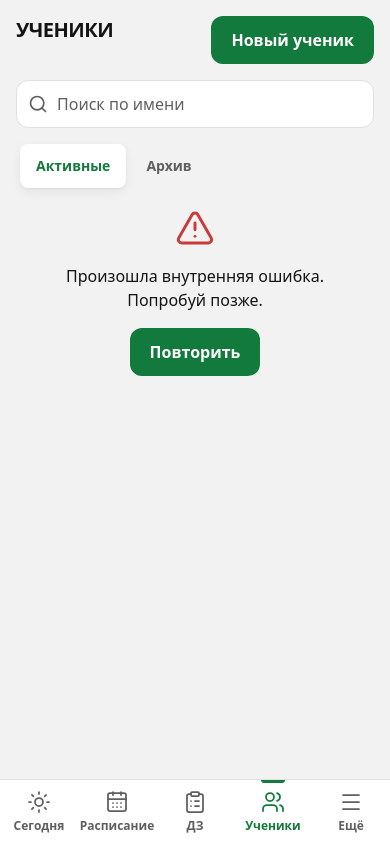
Test: Ученики: список › ошибка: «Повторить» перезапрашивает список
Check: the message shows "Произошла внутренняя ошибка. Попробуй позже.", box [66,265,324,311]
Click the button "Повторить" at (195,352), box [130,328,260,376]
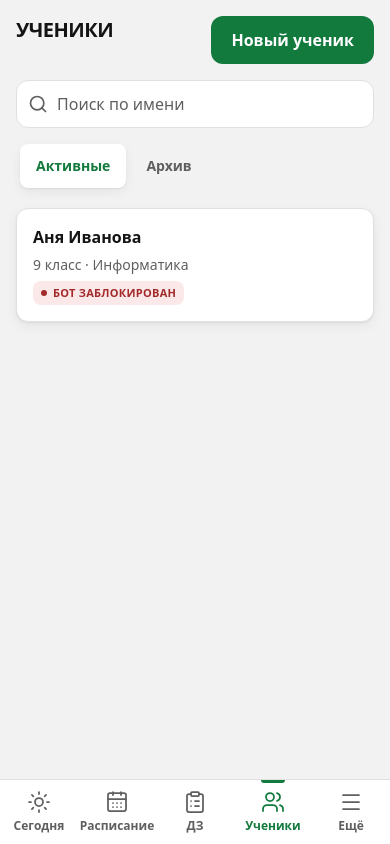
Check: the text "Аня Иванова" is shown, box [33,226,141,248]
